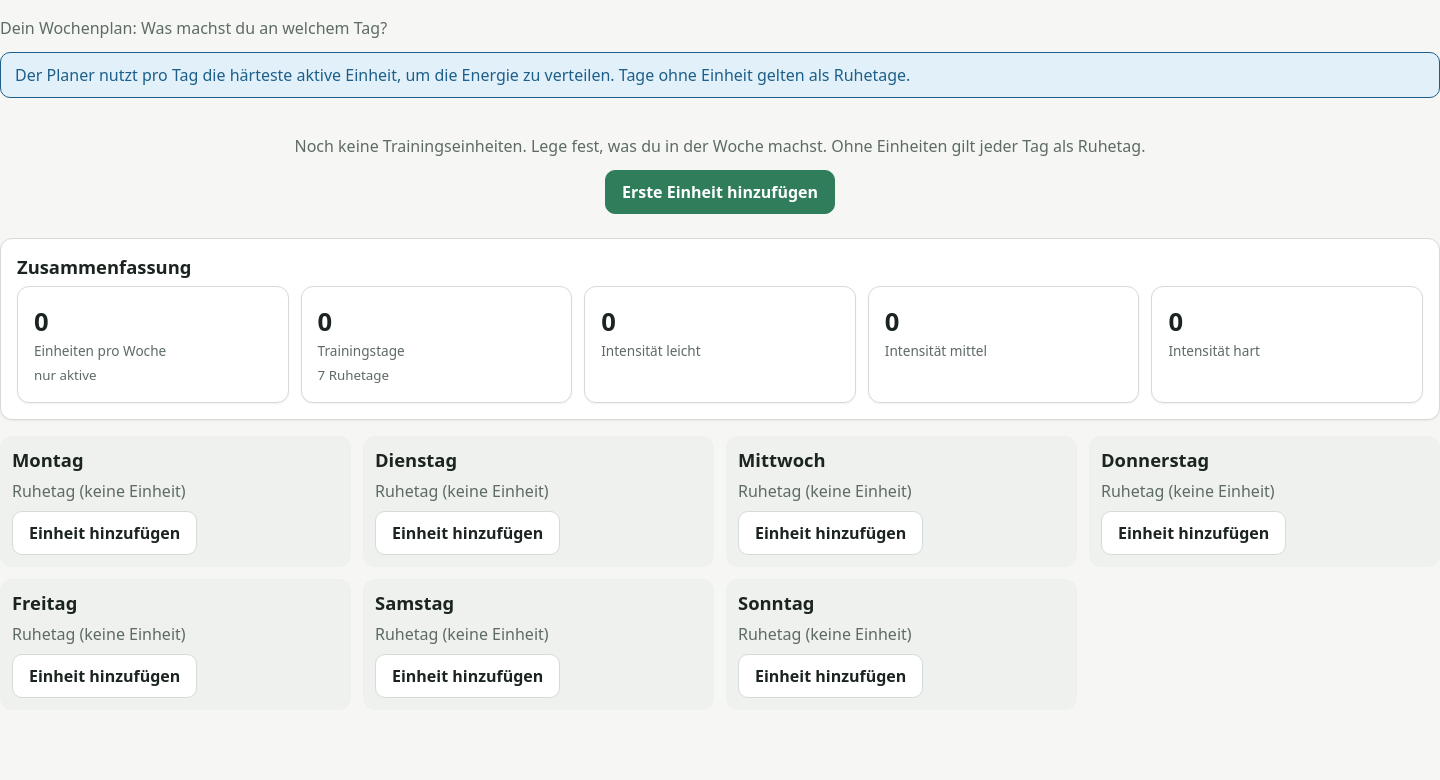
Test: Trainingsplan › zeigt einen leeren Zustand und öffnet das Formular am Montag
Expected: the text "Noch keine Trainingseinheiten" is shown, [294,135,1146,157]
Expected: the text "Ruhetag (keine Einheit)" below "Montag" is shown, [12,480,186,502]
Click the button "Erste Einheit hinzufügen": (720, 192) [605,170,835,214]
(page scrolled)
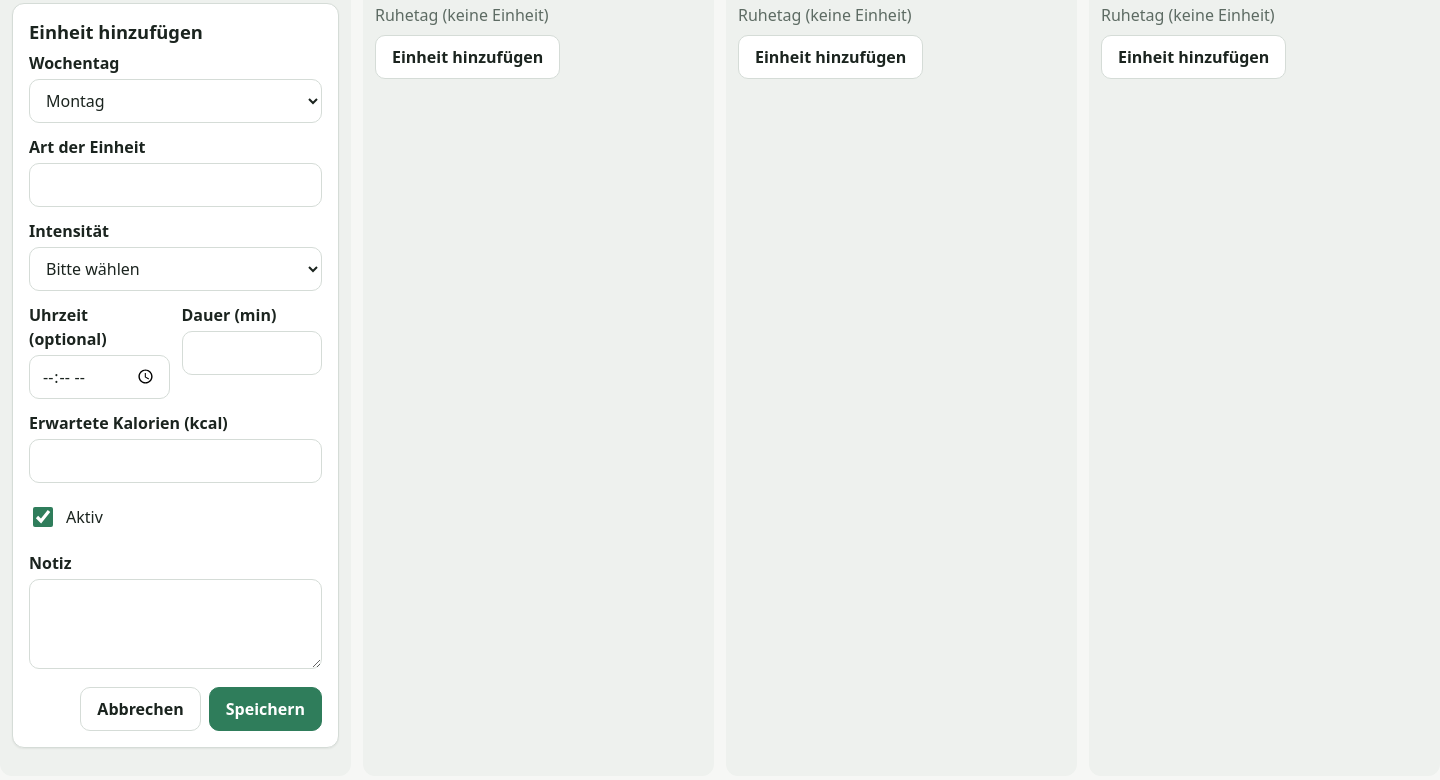
Result: the form "Einheit hinzufügen" is shown at [29,20,322,731]
Result: the text "Noch keine Trainingseinheiten" is gone
